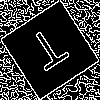T: (25, 24, 76, 80)
